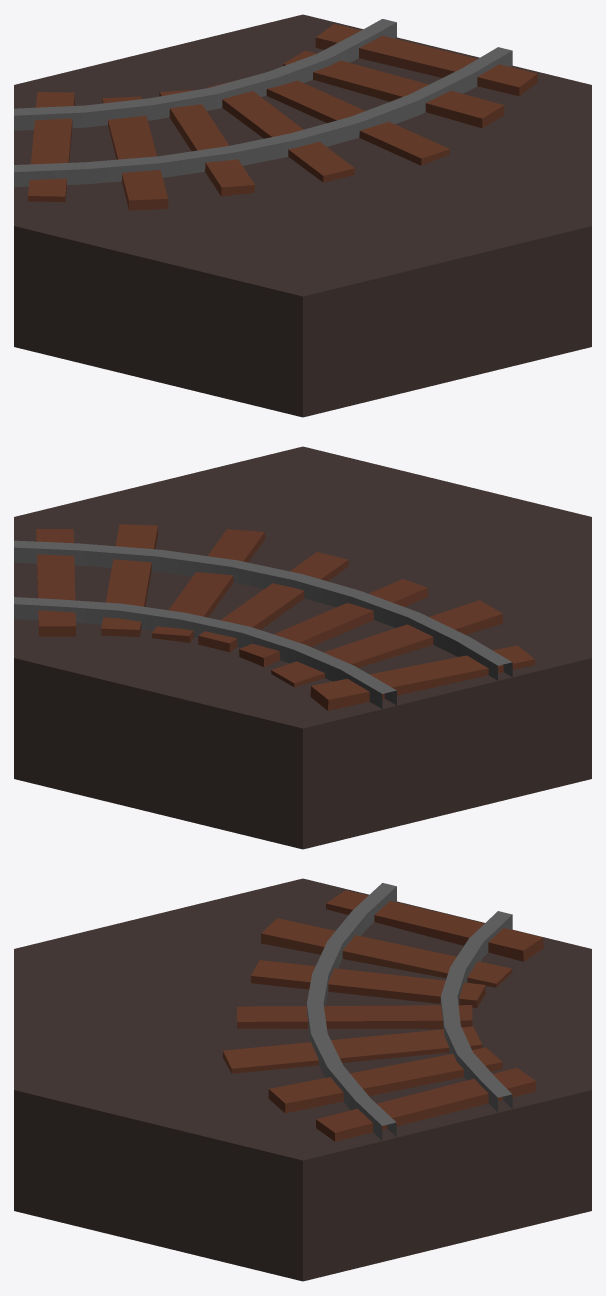
The model's file is Railway_2.fbx.
The picture shows the model from 3 angles, top to bottom: view 1: azimuth 30°, elevation 25°; view 2: azimuth 150°, elevation 25°; view 3: azimuth 270°, elevation 25°; orthographic projection.
Parts seen in each view (by area): view 1: polySurface866; view 2: polySurface866; view 3: polySurface866.
Boxes of the visible parts, box(x1,y1,x2,y2) form: polySurface866: box(14, 14, 591, 417); polySurface866: box(14, 446, 591, 849); polySurface866: box(14, 878, 591, 1281).
Bounding box in the file's own units: 20 × 4.5 × 17.32.
